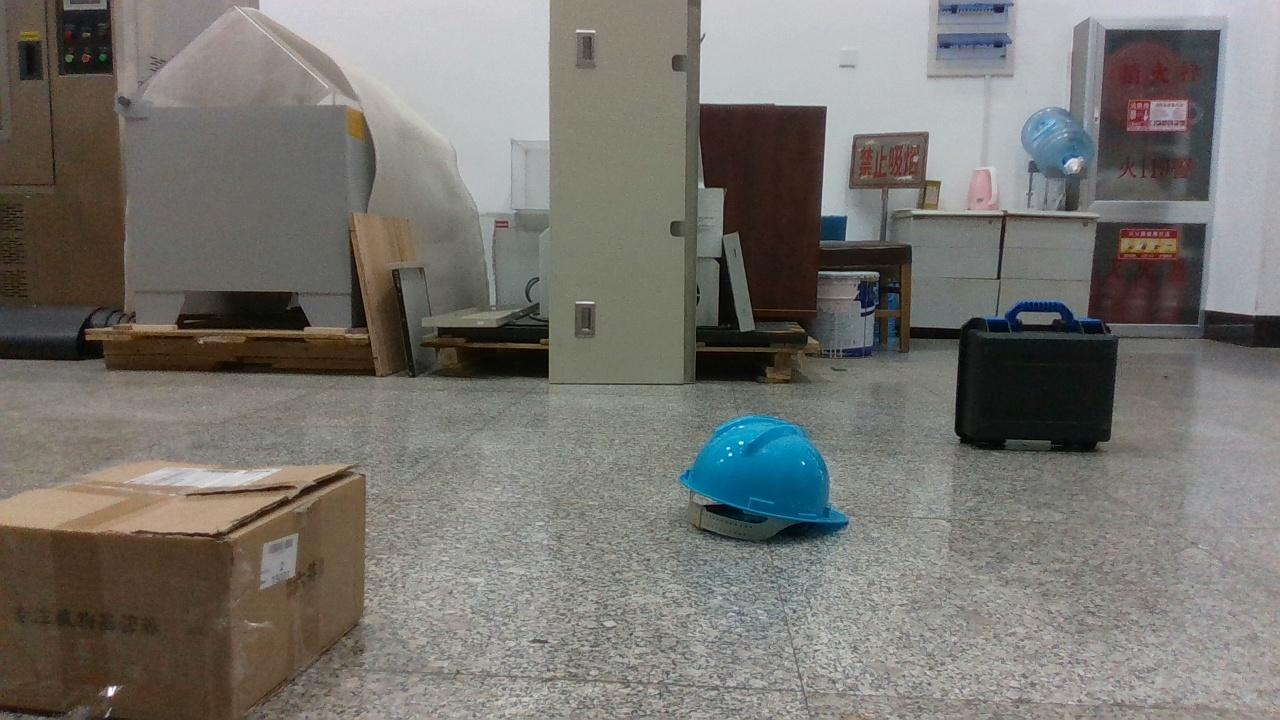box: (0, 460, 365, 718)
safehat: (680, 415, 848, 539)
toolkit: (955, 302, 1118, 449)
